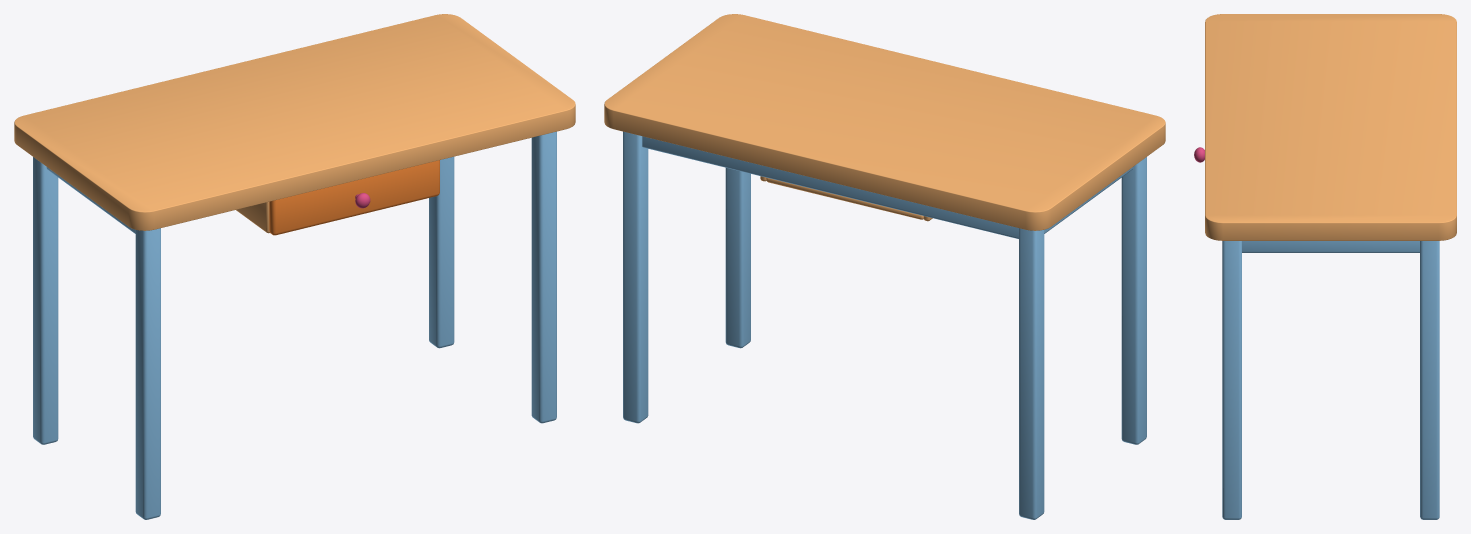
Rendered from escrivaninha_gaveta_pes_finos_laranja.glb.
3 views of the same model, side by side, from view 1: azimuth 30°, elevation 25°; view 2: azimuth 150°, elevation 25°; view 3: azimuth 270°, elevation 25° (orthographic). The views are drawn at different scales.
Parts seen in each view (by area): view 1: escrivaninha_gaveta_pes_finos_laranja, gaveta_1; view 2: escrivaninha_gaveta_pes_finos_laranja; view 3: escrivaninha_gaveta_pes_finos_laranja.
Boxes of the visible parts, x1,y1,x2,y2 form: escrivaninha_gaveta_pes_finos_laranja: (14,14,575,519); gaveta_1: (269,160,439,235); escrivaninha_gaveta_pes_finos_laranja: (604,14,1165,519); escrivaninha_gaveta_pes_finos_laranja: (1205,14,1456,519).
Size of the model in its own units: 1.1 by 0.75 by 0.5846.
Materials: 1 (1 with a texture image).
